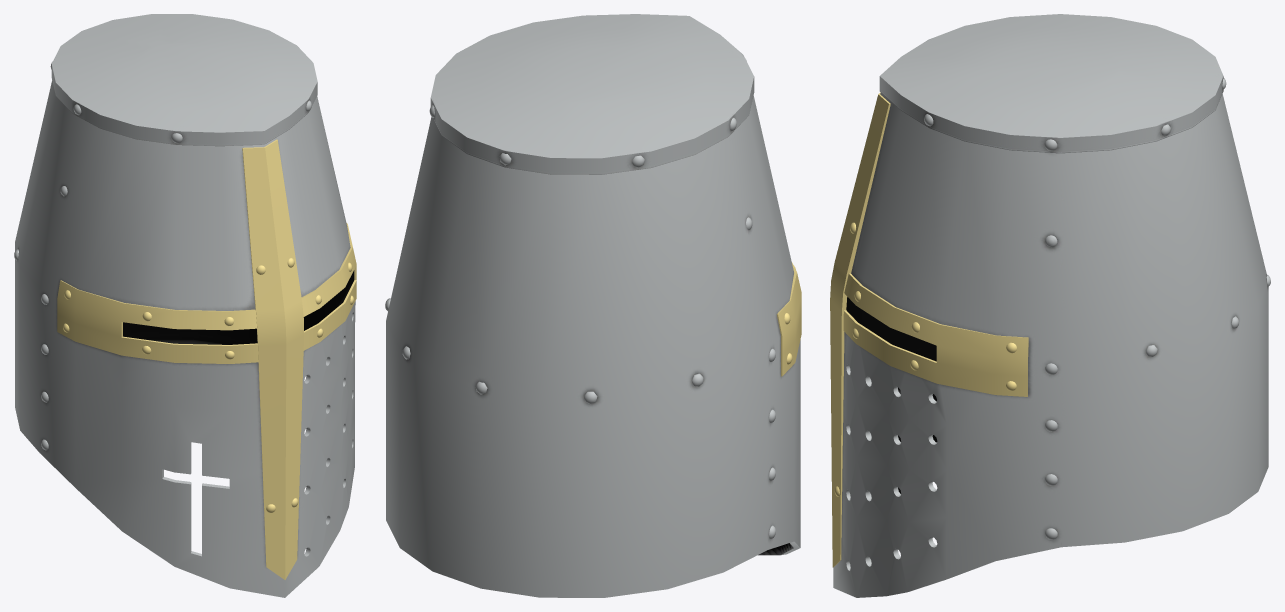
The picture shows the model from 3 angles, left to right: view 1: azimuth 30°, elevation 25°; view 2: azimuth 150°, elevation 25°; view 3: azimuth 270°, elevation 25°; orthographic projection. The views are drawn at different scales.
Visible parts, largest first — view 1: Skull, Cap, Nose, Visor; view 2: Skull, Cap, Visor; view 3: Skull, Cap, Visor, Nose.
Part boxes in pixels (x1,y1,x2,y2): Skull: (15,80,355,597); Cap: (51,14,317,146); Nose: (242,139,303,579); Visor: (57,223,356,363); Skull: (386,96,800,597); Cap: (430,14,754,174); Visor: (776,262,801,376); Skull: (833,92,1268,597); Cap: (879,14,1223,153); Visor: (843,273,1028,396); Nose: (830,92,890,567).
Size of the model in its own units: 1.33 by 2 by 1.53.
Materials: 1 (1 with a texture image).
